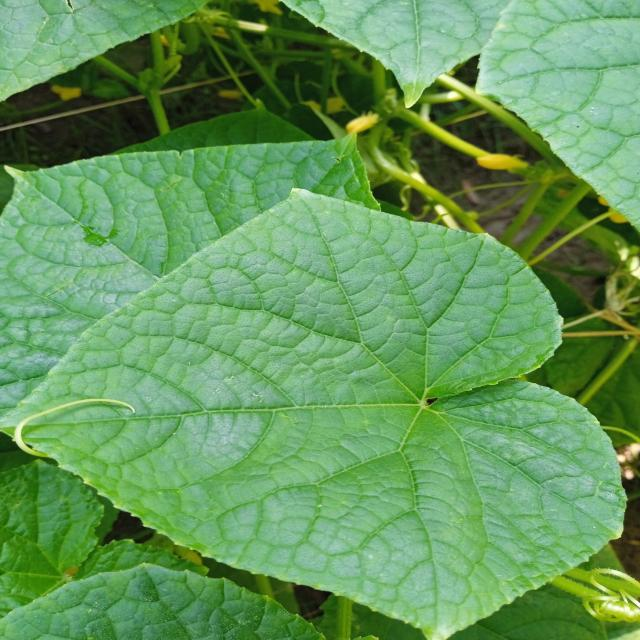cucumber_healthy: (2, 183, 634, 640), (472, 0, 640, 245), (0, 558, 337, 640), (274, 0, 520, 112), (0, 0, 211, 107)
